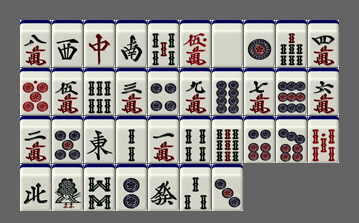0m: (180, 20, 211, 67)
0p: (20, 68, 51, 115)
0s: (308, 116, 339, 163)
1m: (148, 116, 179, 163)
1p: (244, 20, 275, 67)
1s: (52, 164, 83, 211)
1z: (84, 116, 115, 163)
2m: (20, 116, 51, 163)
2p: (116, 164, 147, 211)
2s: (116, 116, 147, 163)
2z: (116, 20, 147, 67)
3m: (116, 68, 147, 115)
3p: (212, 164, 243, 211)
3s: (180, 164, 211, 211)
3z: (52, 20, 83, 67)
4m: (308, 20, 339, 67)
4p: (148, 68, 179, 115)
4s: (180, 116, 211, 163)
4z: (20, 164, 51, 211)
5m: (52, 68, 83, 115)
5p: (52, 116, 83, 163)
5s: (148, 20, 179, 67)
5z: (212, 20, 243, 67)
6m: (308, 68, 339, 115)
6p: (244, 116, 275, 163)
6s: (84, 68, 115, 115)
6z: (148, 164, 179, 211)
7m: (244, 68, 275, 115)
7p: (276, 116, 307, 163)
7s: (276, 20, 307, 67)
7z: (84, 20, 115, 67)
8m: (20, 20, 51, 67)
8p: (212, 68, 243, 115)
8s: (84, 164, 115, 211)
9m: (180, 68, 211, 115)
9p: (276, 68, 307, 115)
9s: (212, 116, 243, 163)
